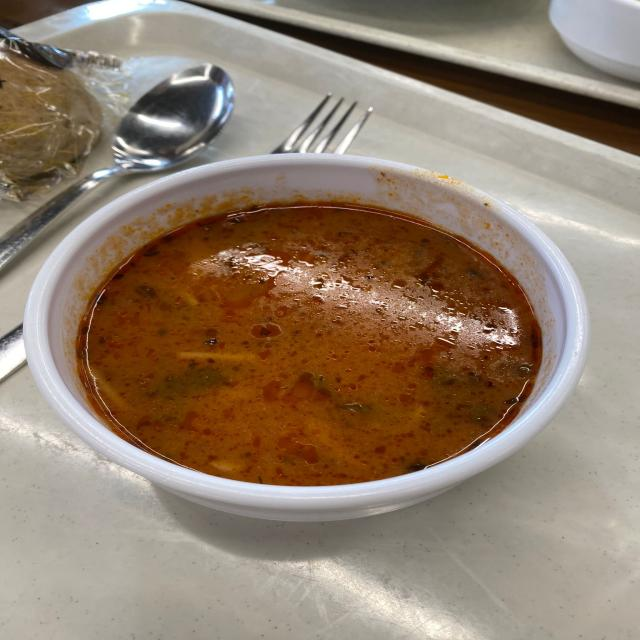corba: (20, 150, 568, 510)
